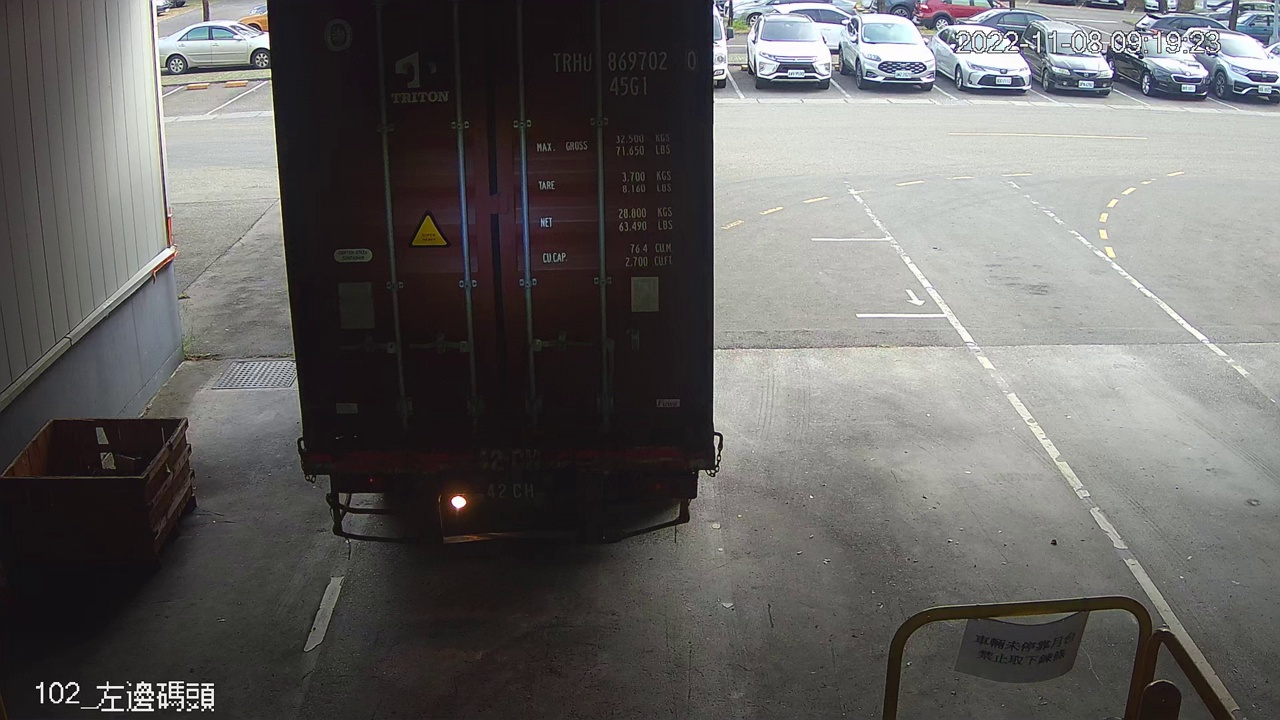container: (542, 38, 702, 104)
